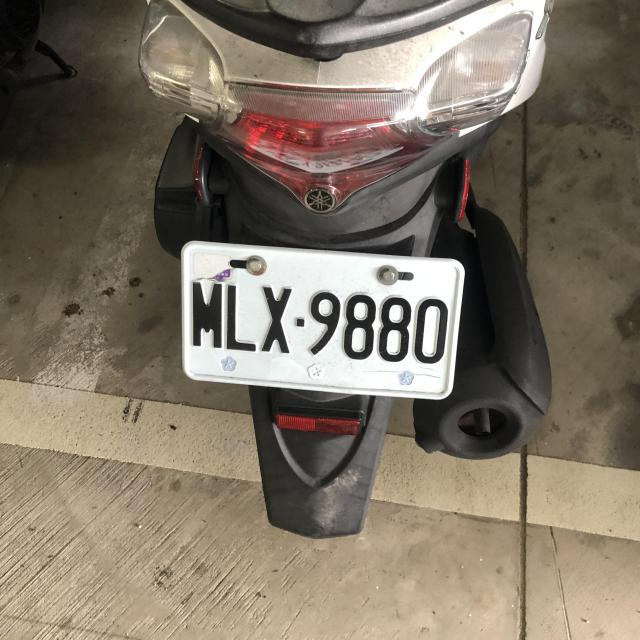W: (173, 239, 465, 404)
